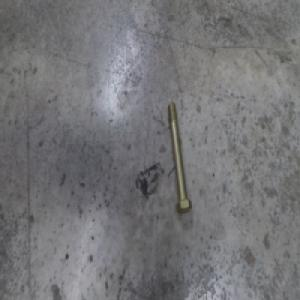Bolt: (165, 105, 189, 215)
